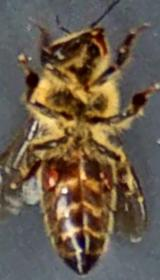varroa_mite: (37, 162, 71, 196)
